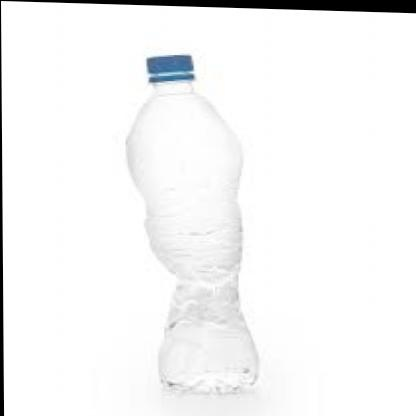trash: (127, 55, 257, 391)
